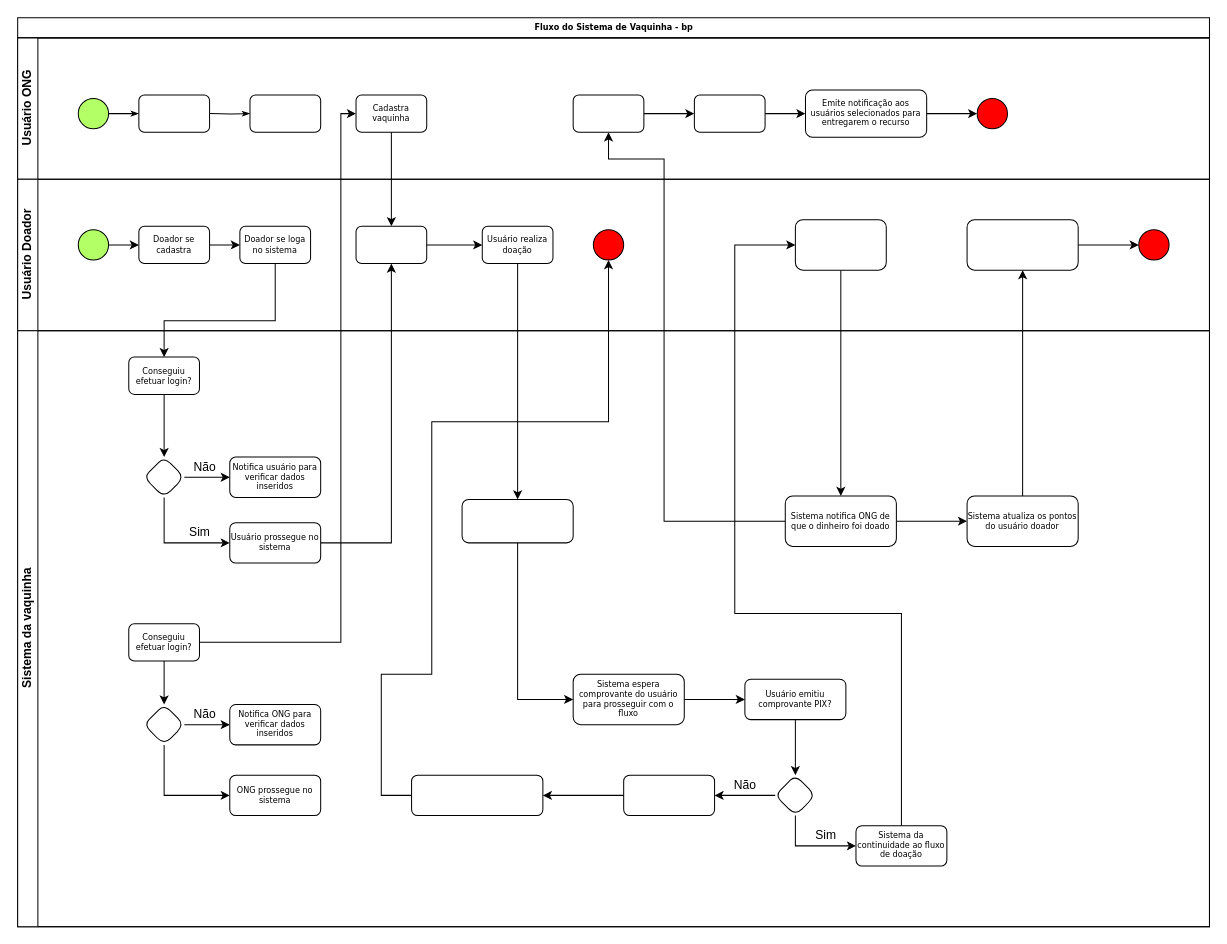
Some shapes in this 1227 by 944 pixel diagram are drawn without their labels. The centre of each missing label's shape, as x and y in pixels:
ONG emite comprovação ao usuário: point 729,113
ONG realiza cadastro: point 174,113
ONG recebe o dinheiro: point 608,113
ONG se loga no sistema: point 285,113
Sistema emite chave PIX disponibilizada pela ONG: point 517,520
Sistema informa usuário que faltou dados para prosseguir com a doação: point 477,795
Sistema não prossegue com doação: point 669,795
Usuário envia comprovante PIX: point 840,244
Usuário verifica pontos atualizados no seu perfil: point 1022,244
Usuário visualiza vaquinha: point 391,244
